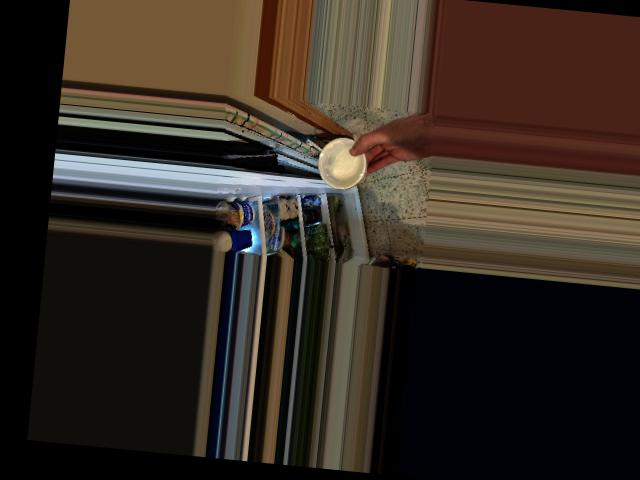cotage: (313, 139, 371, 191)
